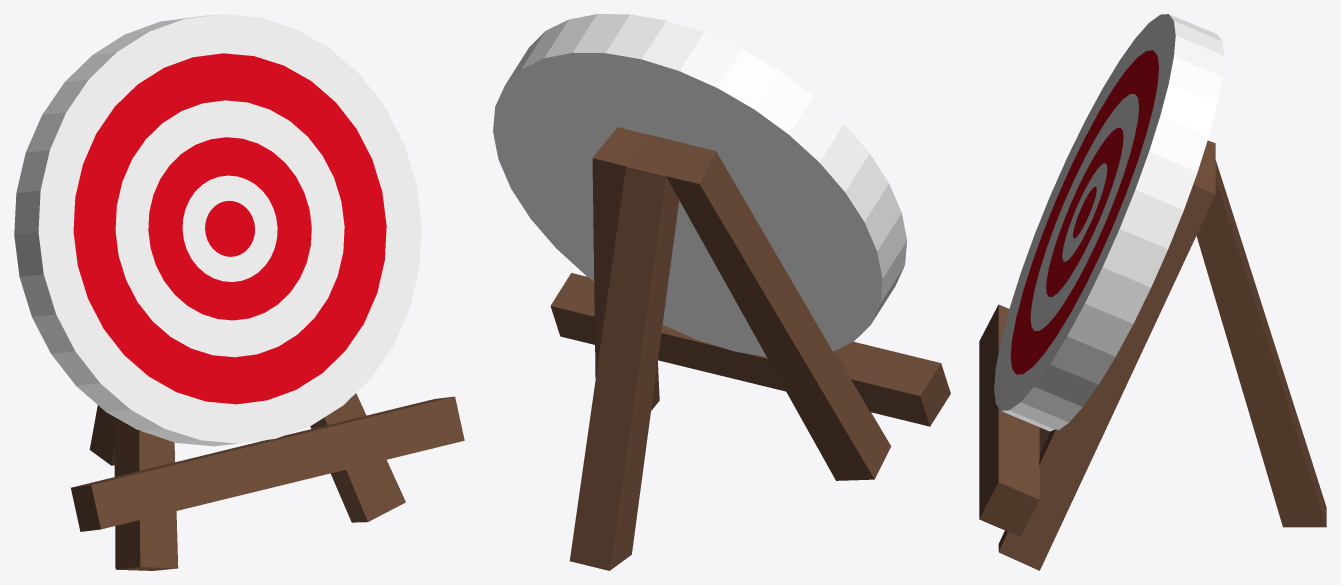
Rendered from ground_target.fbx.
The picture shows the model from 3 angles, left to right: view 1: azimuth 30°, elevation 25°; view 2: azimuth 150°, elevation 25°; view 3: azimuth 270°, elevation 25°; orthographic projection.
Visible parts, largest first — view 1: Target, FrontBar, SupportLegs, RearLeg; view 2: Target, SupportLegs, RearLeg, FrontBar; view 3: Target, RearLeg, SupportLegs, FrontBar.
Boxes of the visible parts, bbox=[...] form: Target: bbox=[14, 14, 421, 446]; FrontBar: bbox=[71, 396, 464, 531]; SupportLegs: bbox=[114, 393, 405, 570]; RearLeg: bbox=[89, 405, 114, 465]; Target: bbox=[493, 14, 906, 356]; SupportLegs: bbox=[592, 127, 891, 480]; RearLeg: bbox=[569, 134, 686, 570]; FrontBar: bbox=[550, 273, 950, 426]; Target: bbox=[994, 14, 1224, 431]; RearLeg: bbox=[1196, 154, 1326, 527]; SupportLegs: bbox=[998, 140, 1215, 570]; FrontBar: bbox=[979, 304, 1039, 536].
Size of the model in its own units: 197 by 159 by 243.
